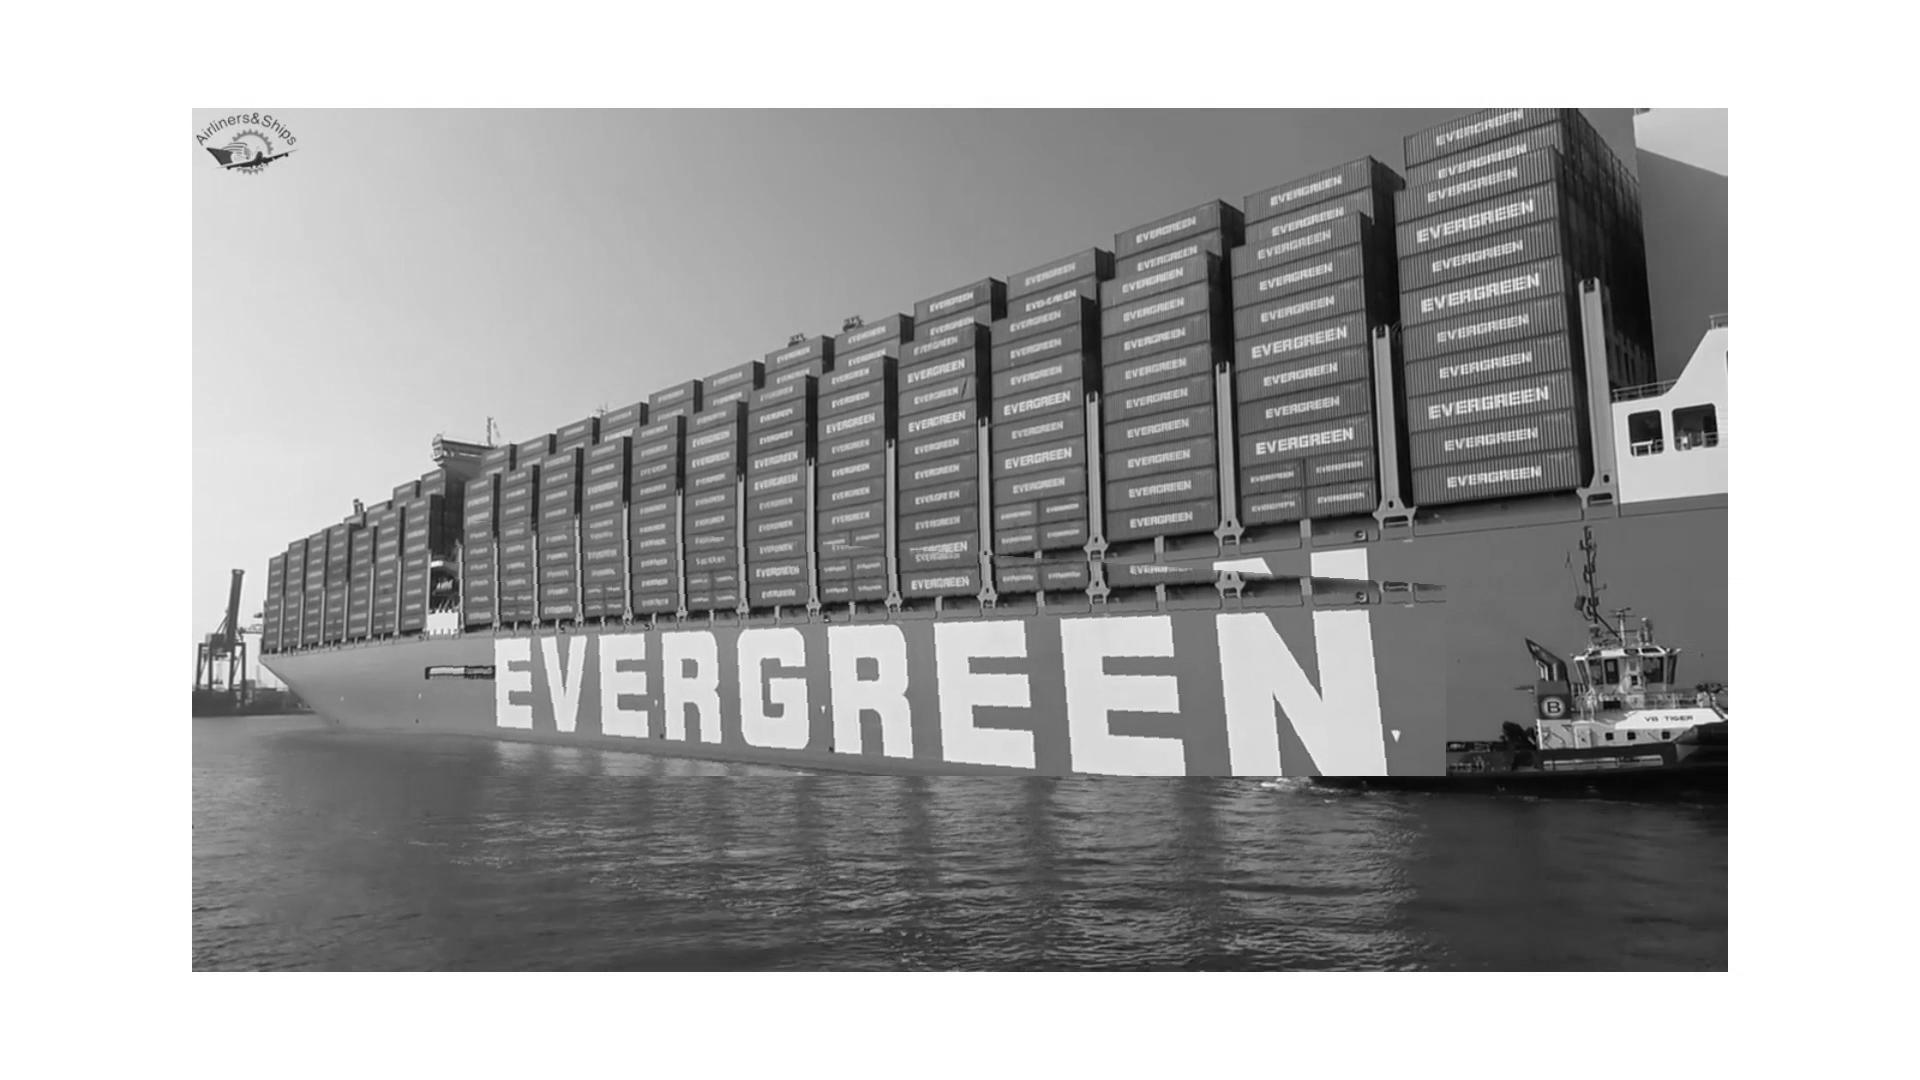OCR: (436, 518, 1447, 775)
